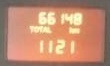1: (67, 39, 75, 54), (46, 38, 53, 53), (37, 38, 44, 53), (58, 12, 64, 25)
2: (54, 38, 65, 54)
4: (64, 12, 72, 25)
6: (46, 10, 55, 24), (37, 10, 46, 24)
8: (73, 11, 82, 25)
X: (73, 27, 80, 34), (28, 24, 33, 33), (42, 25, 47, 33), (33, 25, 38, 33), (68, 26, 73, 33), (47, 25, 51, 33), (38, 25, 42, 33)
